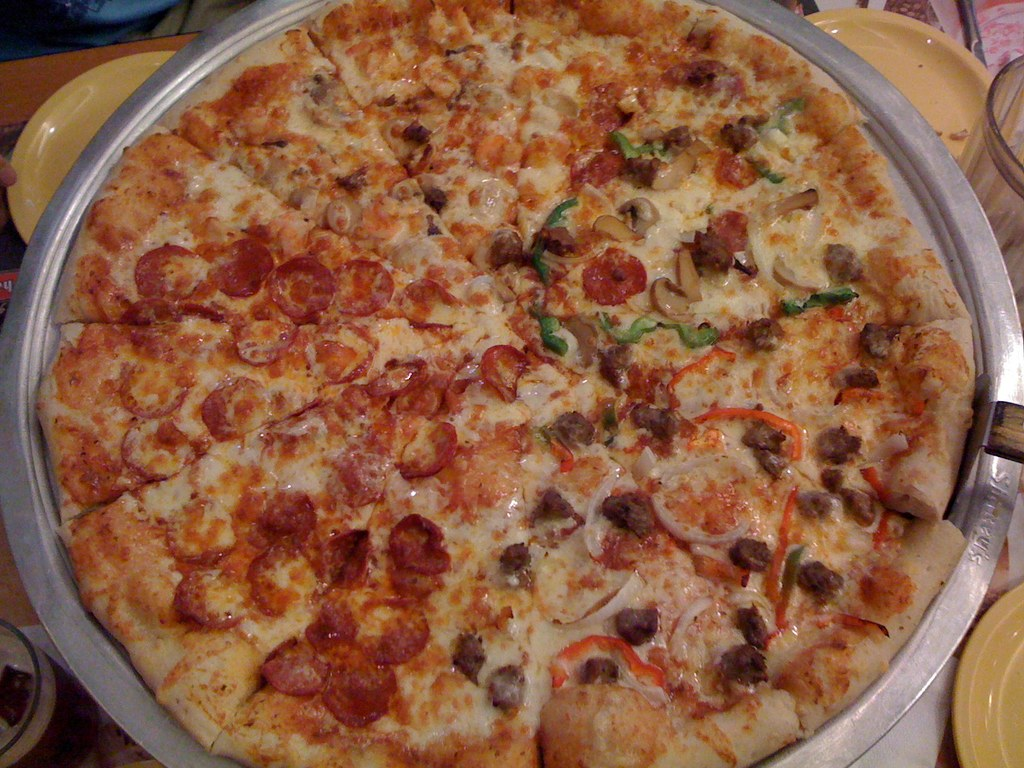Pizza: (17, 16, 988, 768)
